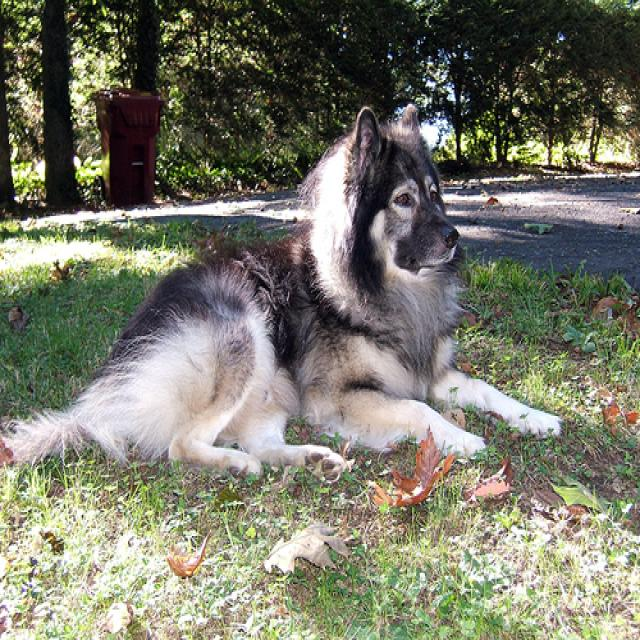dog: (346, 101, 457, 264)
